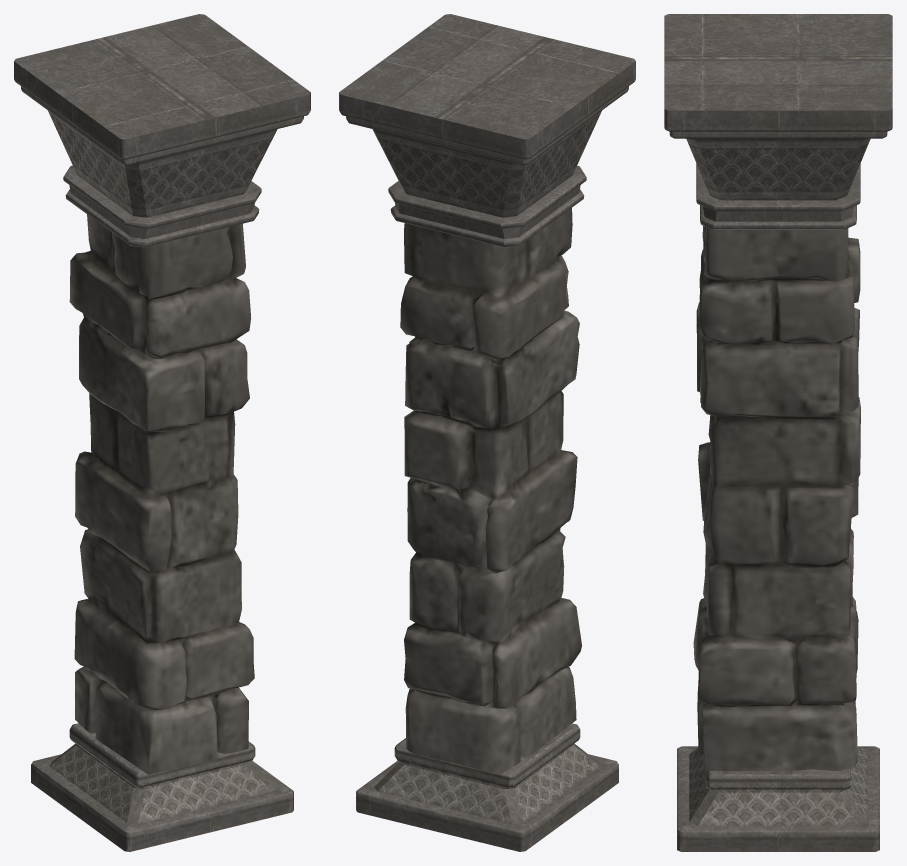
Rendered from SM_Pillar.glb.
3 views of the same model, side by side, from view 1: azimuth 30°, elevation 25°; view 2: azimuth 150°, elevation 25°; view 3: azimuth 270°, elevation 25° (orthographic). The views are drawn at different scales.
Visible parts, largest first — view 1: SM_Pillar; view 2: SM_Pillar; view 3: SM_Pillar.
Boxes of the visible parts, x1,y1,x2,y2 form: SM_Pillar: (14, 14, 310, 851); SM_Pillar: (339, 14, 635, 851); SM_Pillar: (664, 14, 892, 851).
Size of the model in its own units: 1.25 by 4.5 by 1.25.
2 materials, 2 textured.
